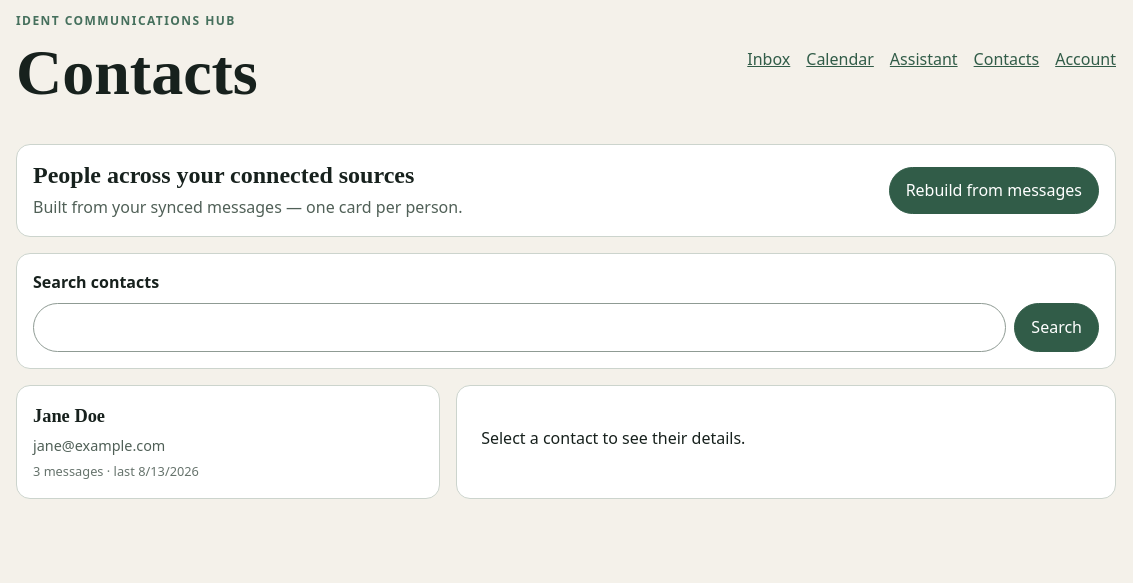
it: ContactsClient › surfaces a rebuild failure without clearing the existing cards
Expected: the text "Jane Doe" is shown, [33,406,105,426]
Click the button "Rebuild from messages" at (994, 190), box [889,167,1099,214]
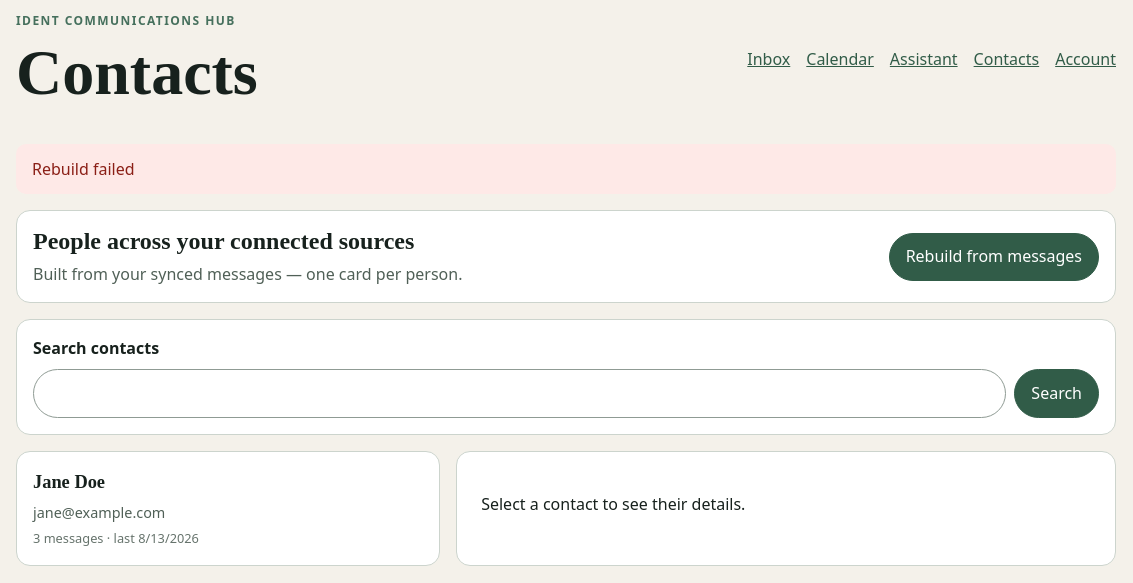
Expected: the text "Jane Doe" is shown, [33,472,105,492]
Now the message reads "Rebuild failed", box [32,158,135,180]
